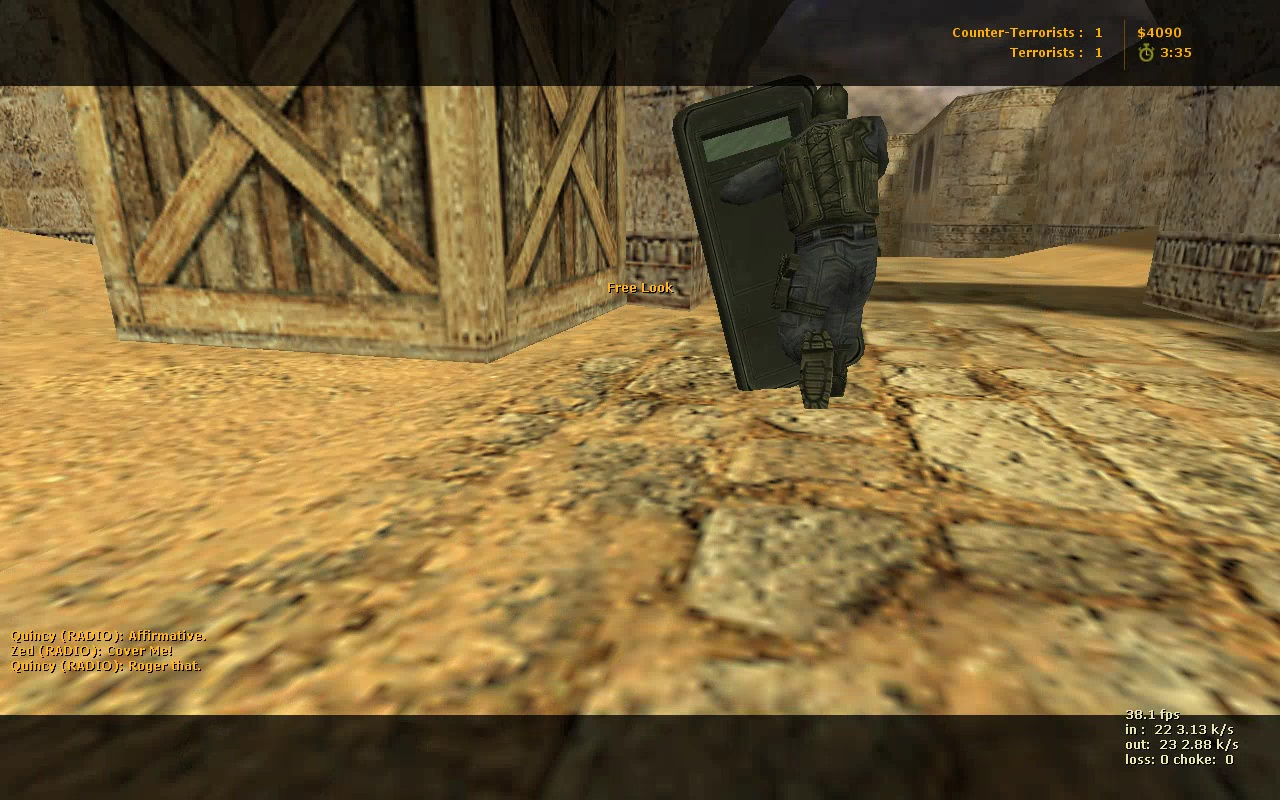ct: (673, 74, 890, 412)
